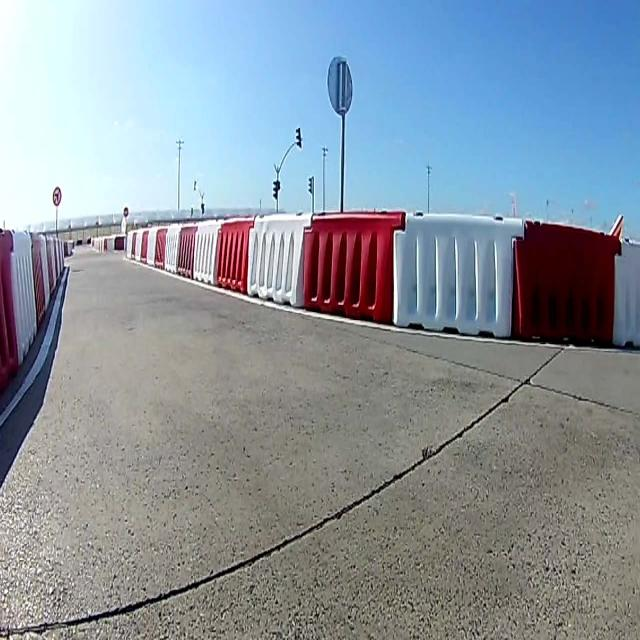soladonulmez: (53, 186, 61, 206)
